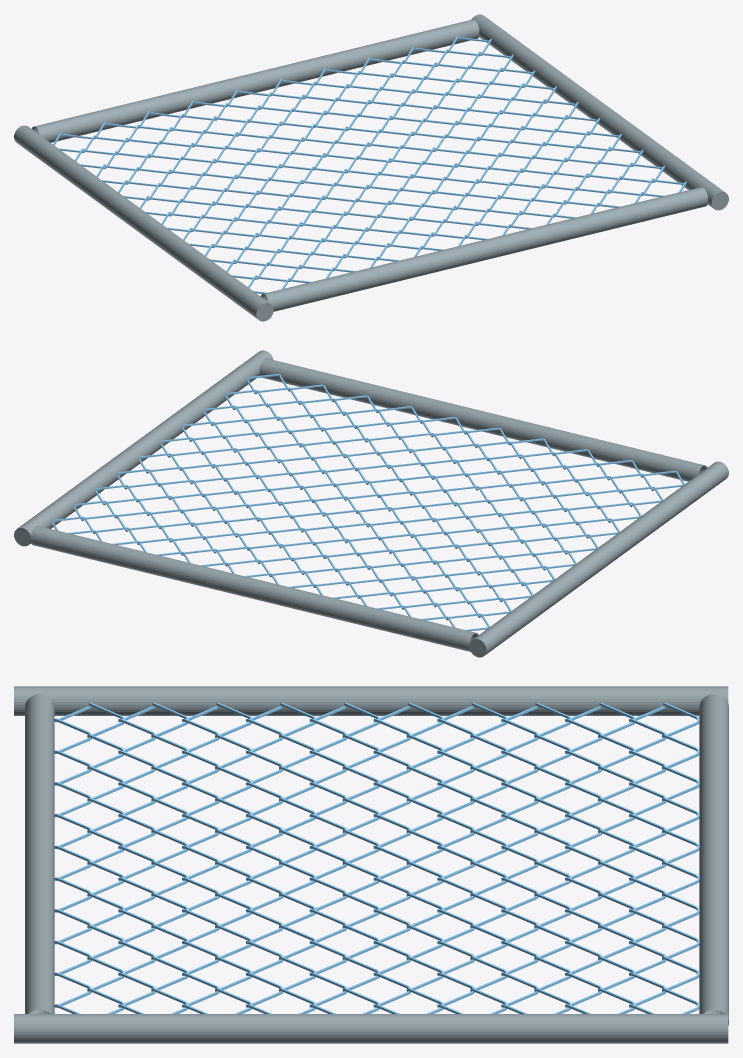
Rendered from Iron zig zag fense walls.fbx.
3 renders of one model, top to bottom at view 1: azimuth 30°, elevation 25°; view 2: azimuth 150°, elevation 25°; view 3: azimuth 270°, elevation 25°, orthographic. The views are drawn at different scales.
Parts seen in each view (by area): view 1: Cylinder; view 2: Cylinder; view 3: Cylinder.
Boxes of the visible parts, x1=… form: Cylinder: x1=14, y1=14, x2=728, y2=321; Cylinder: x1=14, y1=350, x2=728, y2=657; Cylinder: x1=14, y1=686, x2=728, y2=1043.
Bounding box in the file's own units: 35834 × 1318 × 31847.
